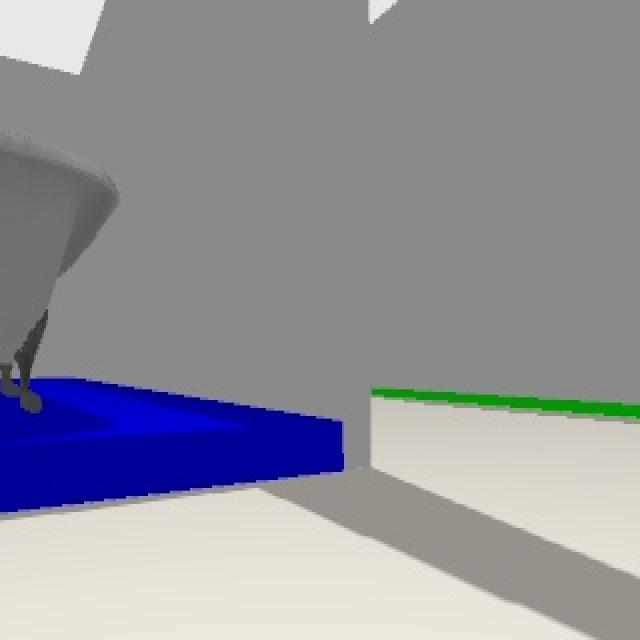bathtub: (0, 121, 118, 420)
